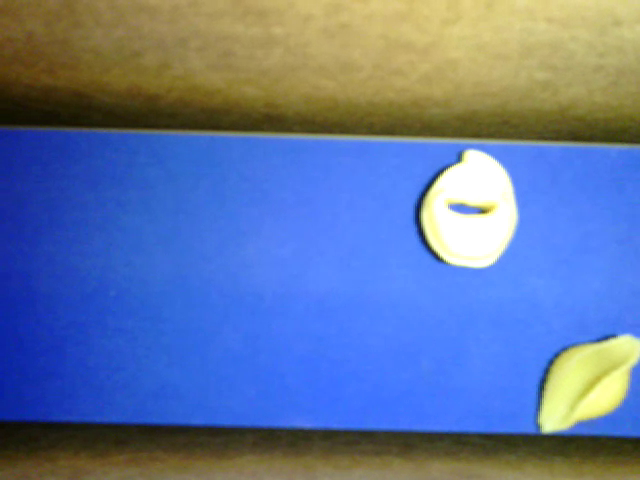shell: (537, 332, 639, 433)
tortellini: (418, 148, 516, 268)
